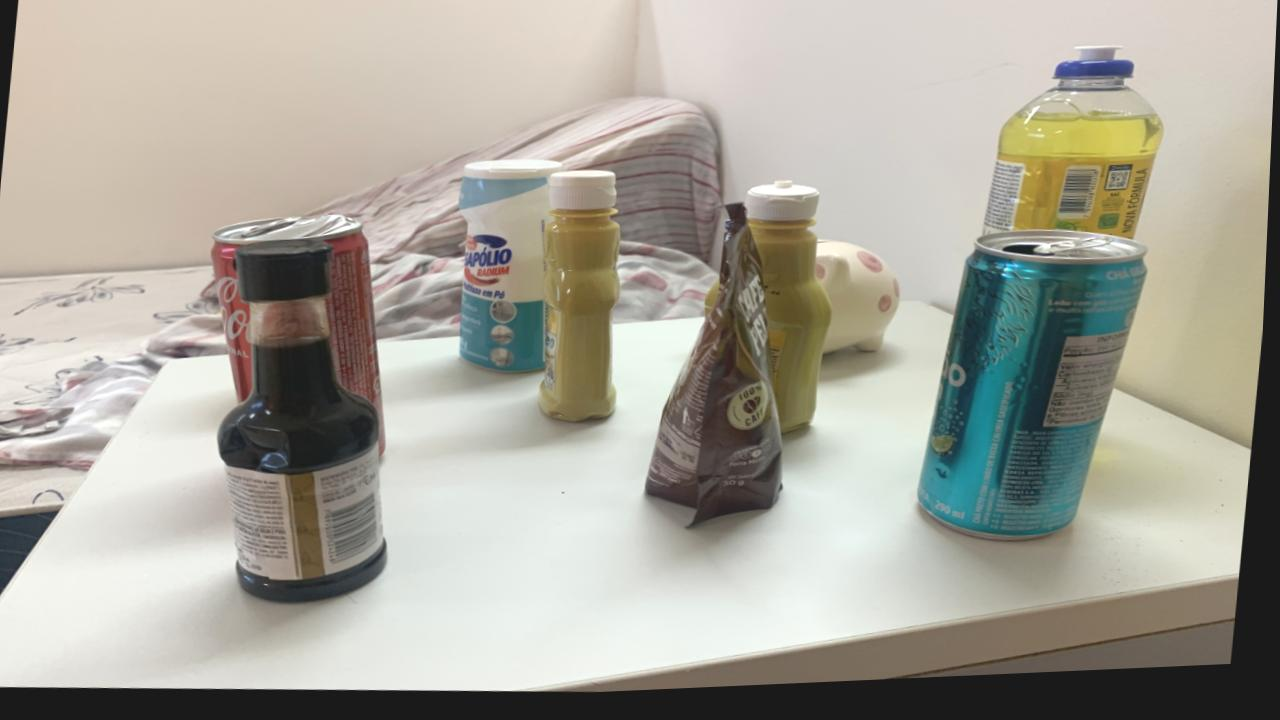Cleaner-Cleanup_Items: (461, 164, 564, 377)
Coffee-Pantry_Items: (649, 212, 787, 531)
Detergent-Cleanup_Items: (985, 57, 1164, 249)
English_Sauce-Pantry_Items: (221, 243, 392, 605)
Mustard-Pantry_Items: (748, 188, 834, 440), (542, 175, 622, 427)
Pig_Safe-Miscellaneous: (817, 247, 903, 362)
Tea-Drinks: (922, 239, 1149, 549)
